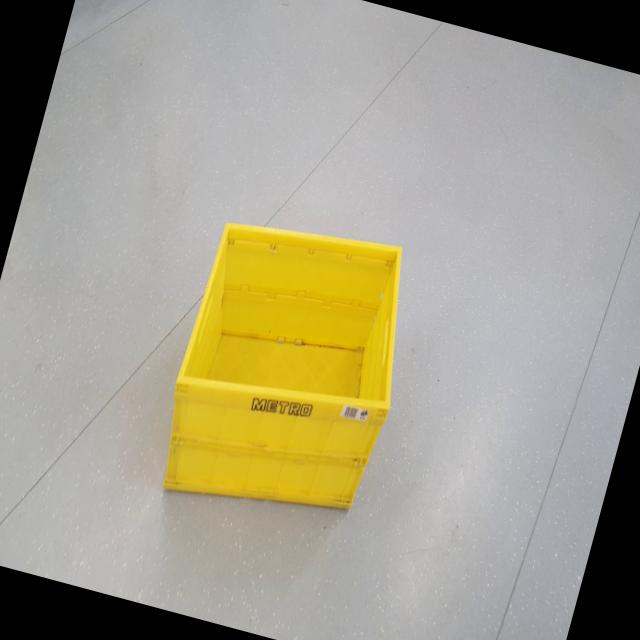box: (140, 192, 438, 549)
